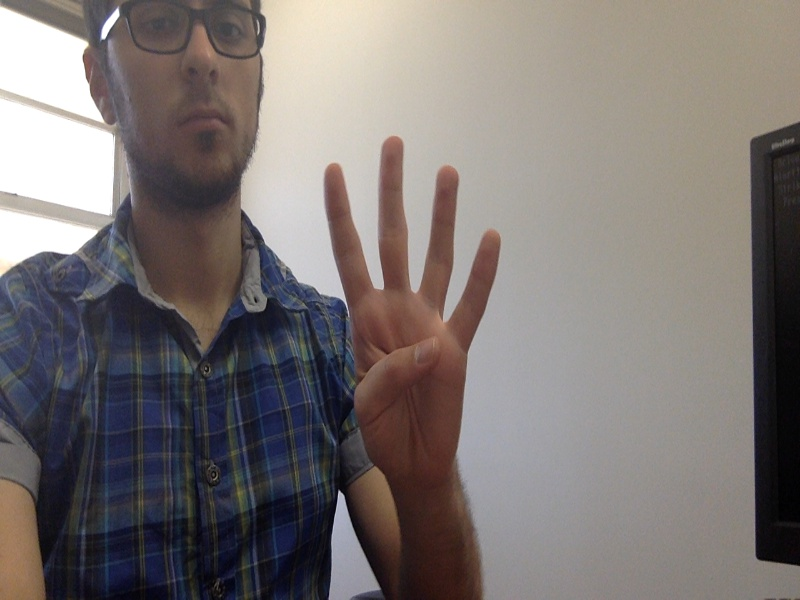4-hand: (320, 137, 501, 490)
